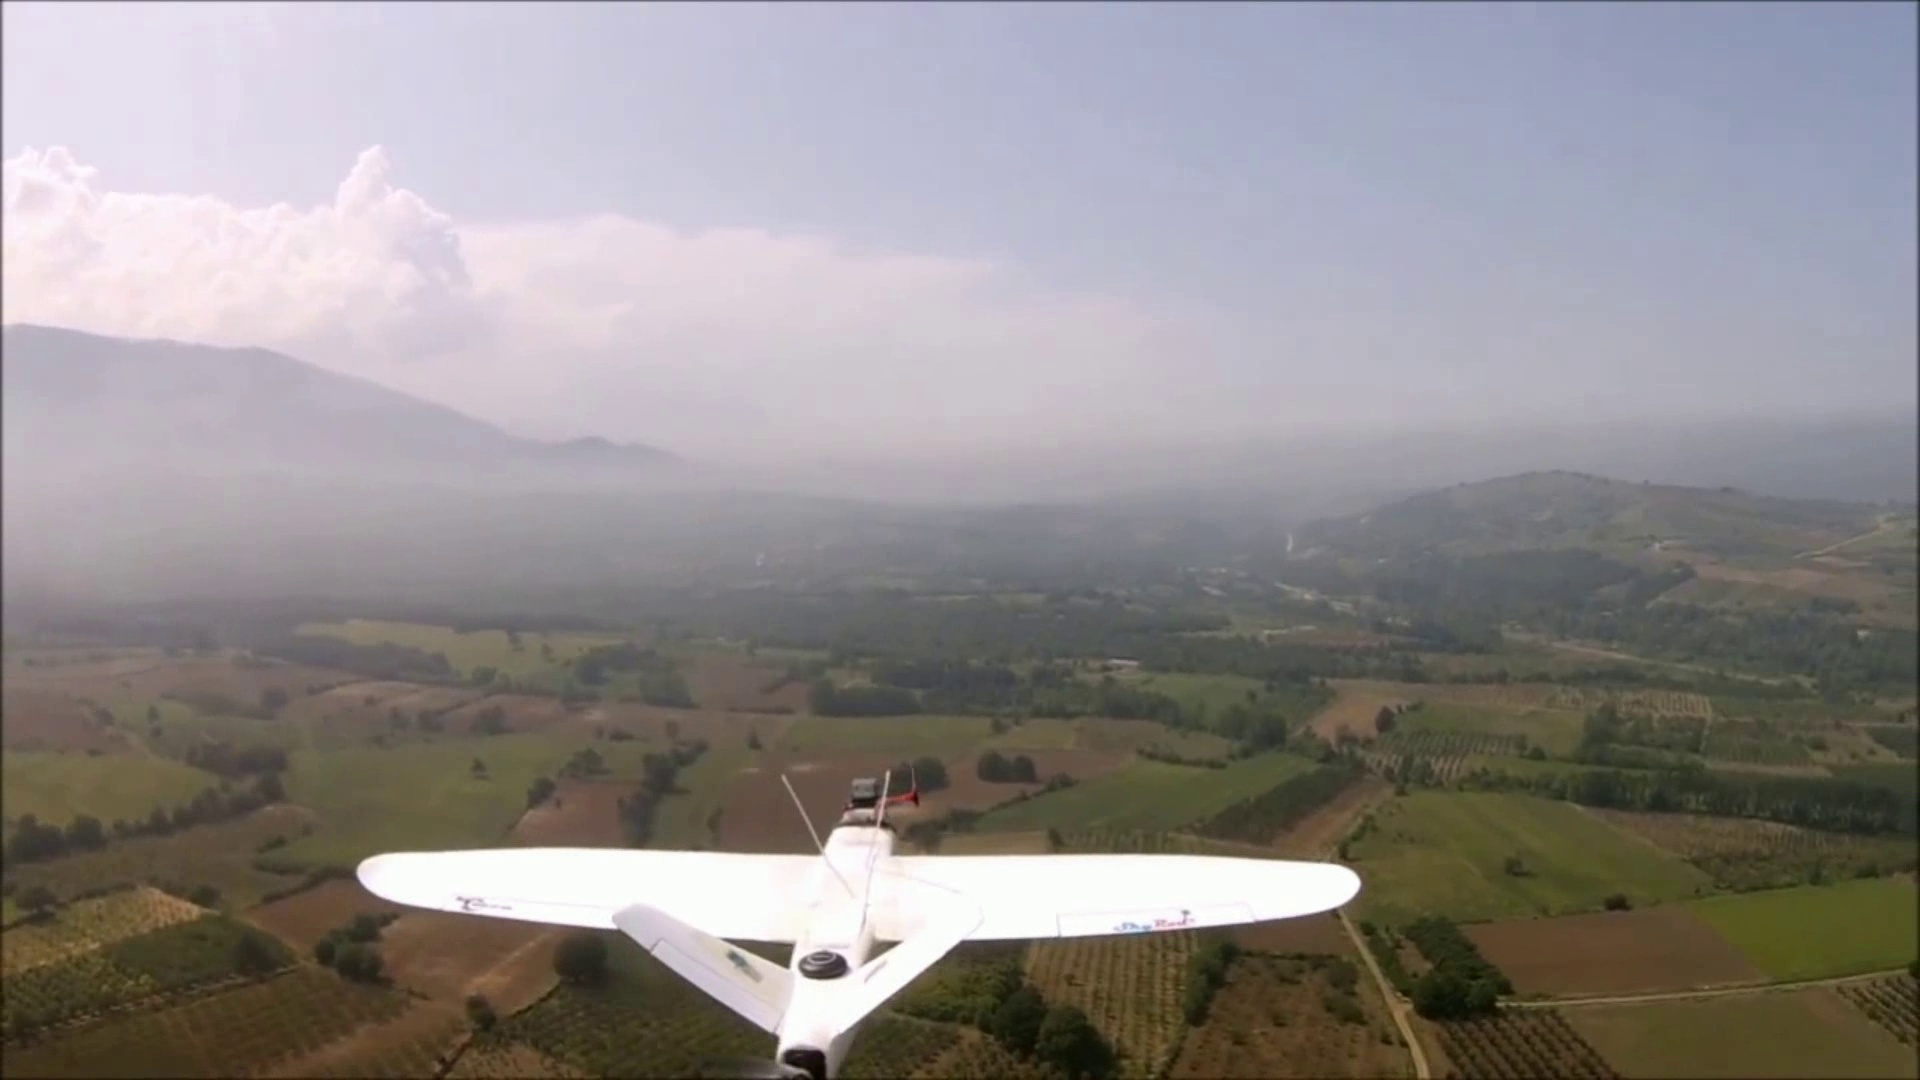airplane: (351, 761, 1370, 1071)
